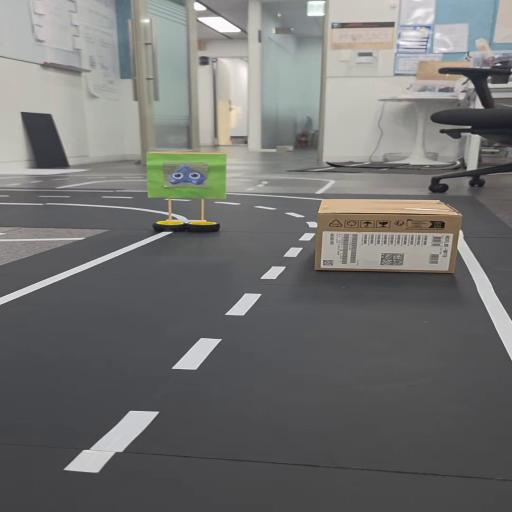Box: (313, 198, 463, 276)
Sign_B: (140, 151, 230, 233)
